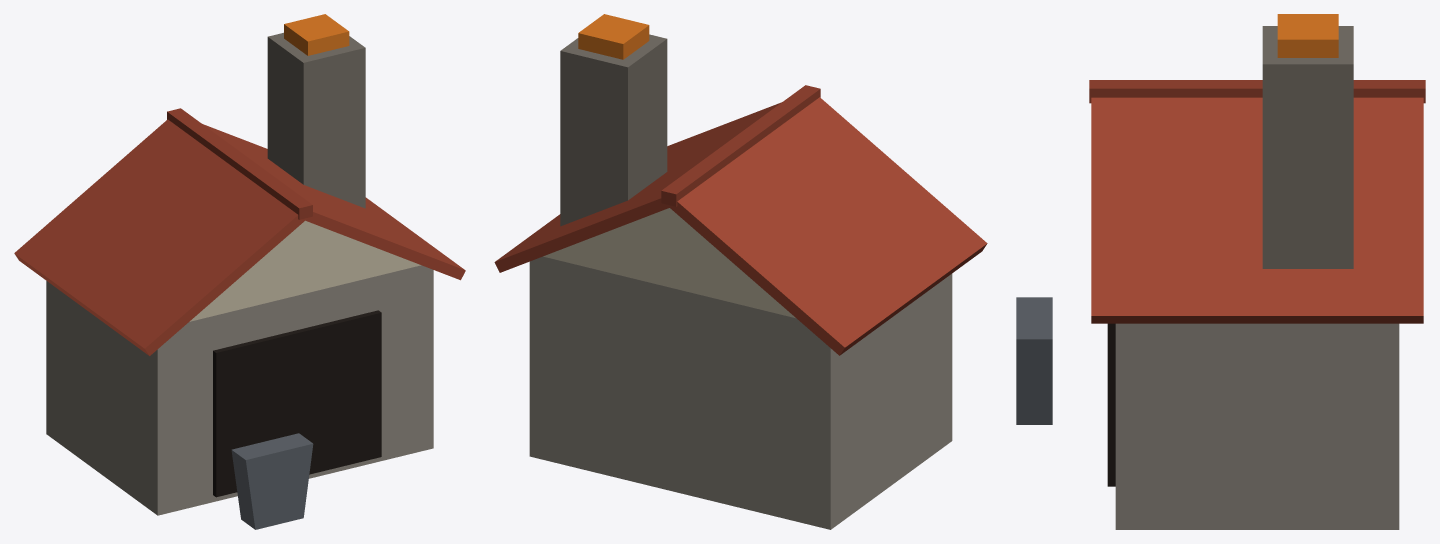
File: dwarf_house_c.glb
3 renders of one model, left to right at view 1: azimuth 30°, elevation 25°; view 2: azimuth 150°, elevation 25°; view 3: azimuth 270°, elevation 25°, orthographic. The views are drawn at different scales.
Visible parts, largest first — view 1: dwarf_house_c; view 2: dwarf_house_c; view 3: dwarf_house_c.
Boxes of the visible parts, x1,y1,x2,y2 form: dwarf_house_c: (14, 14, 465, 529); dwarf_house_c: (494, 14, 987, 529); dwarf_house_c: (1016, 14, 1425, 529).
Size of the model in its own units: 2.33 by 2.6 by 2.02.
